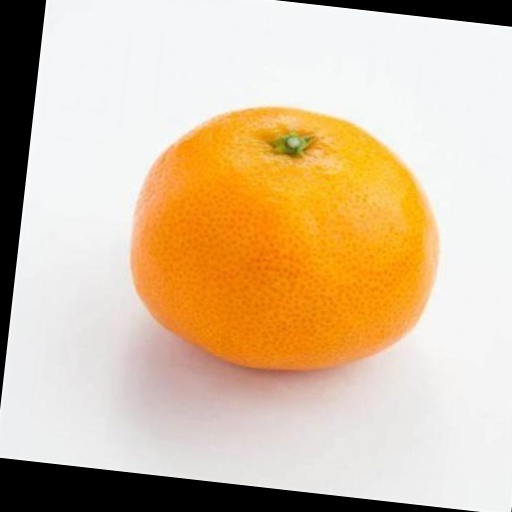fruit: (131, 107, 437, 369)
